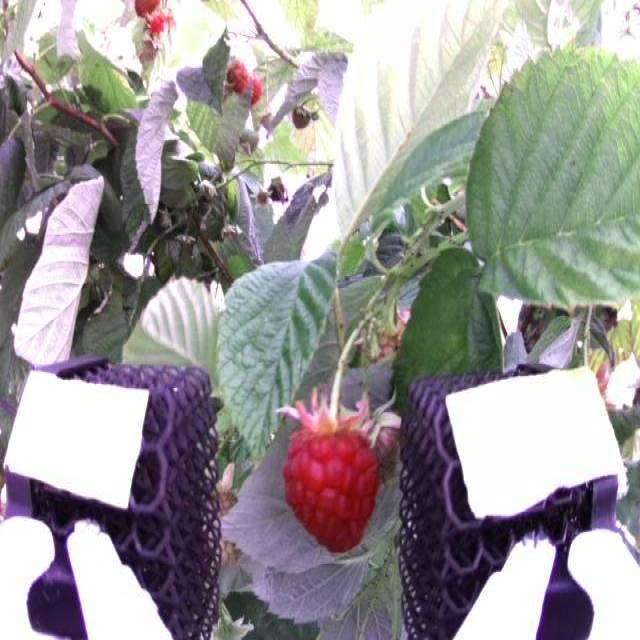Riped berries: (282, 410, 384, 552), (136, 0, 174, 42), (242, 66, 266, 102), (225, 55, 247, 89)
